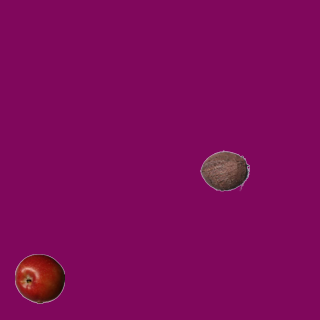Apple Braeburn: (14, 253, 64, 303)
Cocos: (199, 145, 249, 195)
